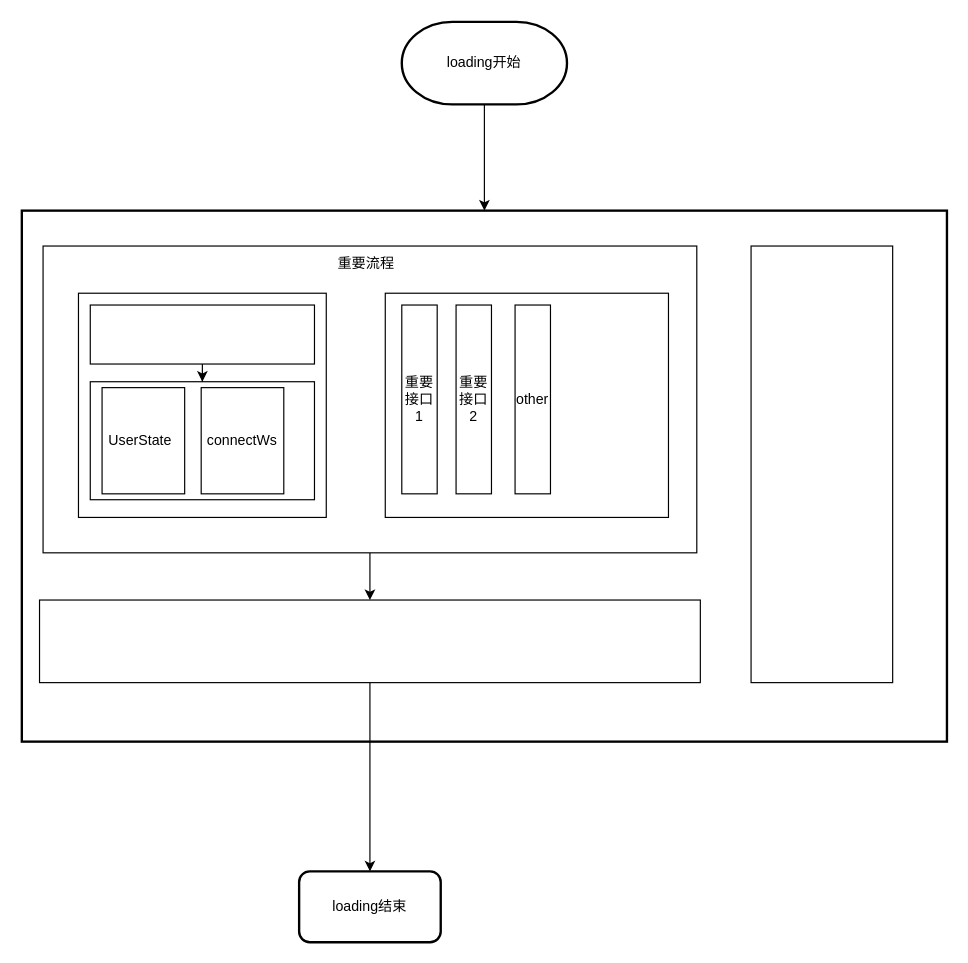
Image size: 968x963. Some labels were removed from this diagram. Here are the shapes that lost their labels. From the top down, the centre of each, then its label:
At point (201, 334): "preLogin".
At point (821, 464): "appAfterLogin 高优先级接口".
At point (369, 641): "登录后的低优先级接口/初始化操作".
